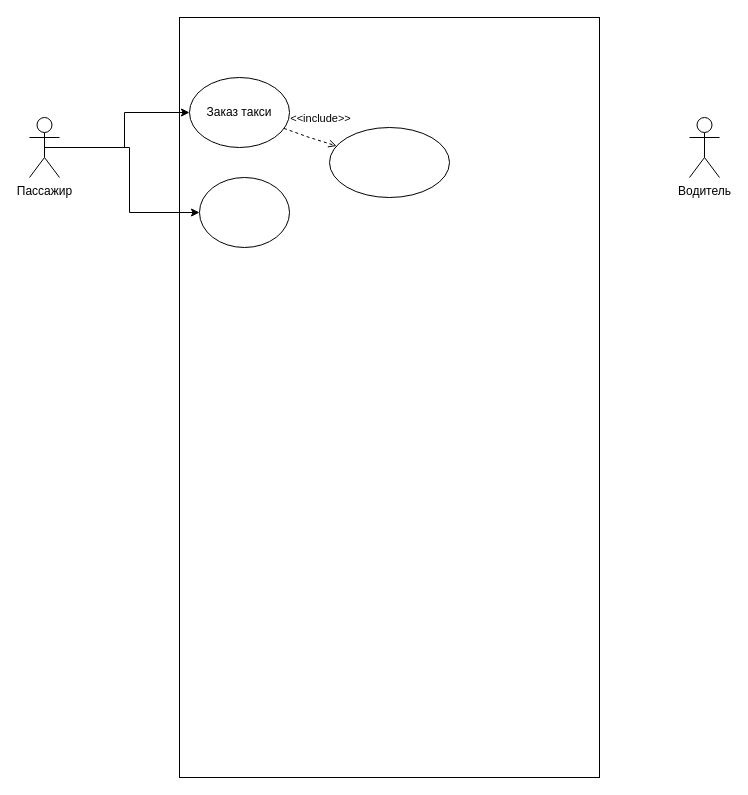
Some shapes in this 748 by 795 pixel diagram are drawn without their labels. Each missing label, with the box of its shape:
Отмена заказа: (198, 176, 290, 248)
Подтверждение предложенного водителя: (328, 126, 450, 198)
